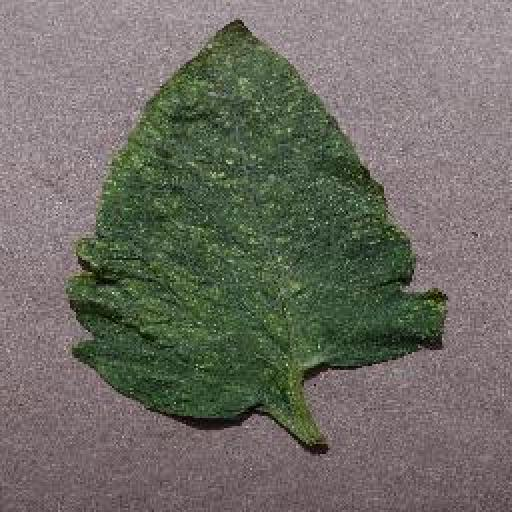Spider Mites: (70, 14, 449, 422)
